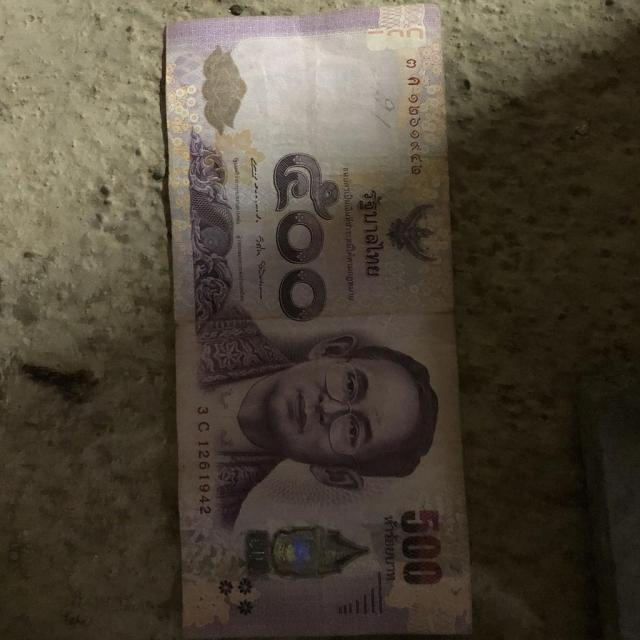THAI500: (162, 5, 473, 638)
